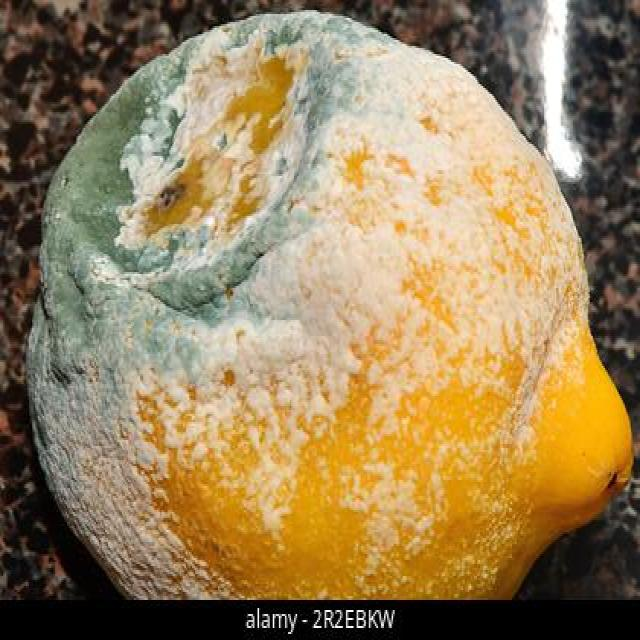Rotten: (21, 9, 634, 596)
